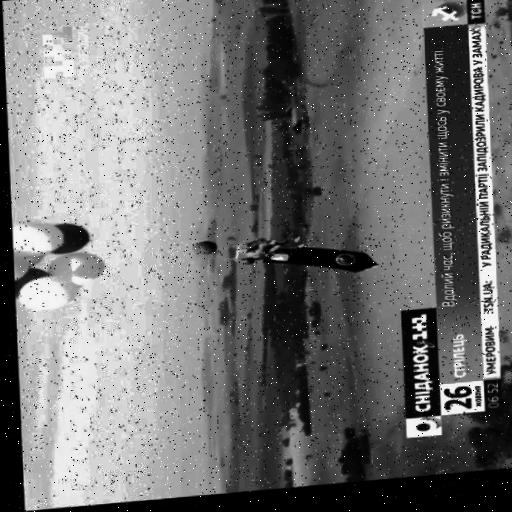balloon: (15, 273, 77, 308), (9, 219, 62, 258), (48, 252, 103, 286), (46, 221, 87, 253), (10, 268, 45, 296), (9, 250, 31, 275), (189, 241, 215, 259)
